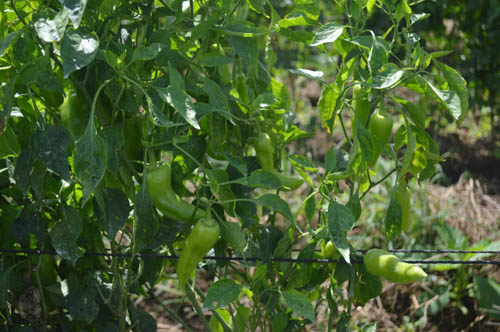ChiliPepper: (172, 224, 216, 294), (146, 168, 199, 220), (364, 249, 427, 285), (365, 111, 398, 164), (345, 83, 372, 135), (256, 131, 275, 169), (270, 174, 303, 193)
